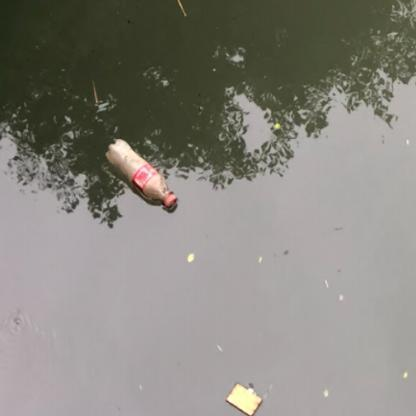plastic bottle: (104, 137, 178, 210)
